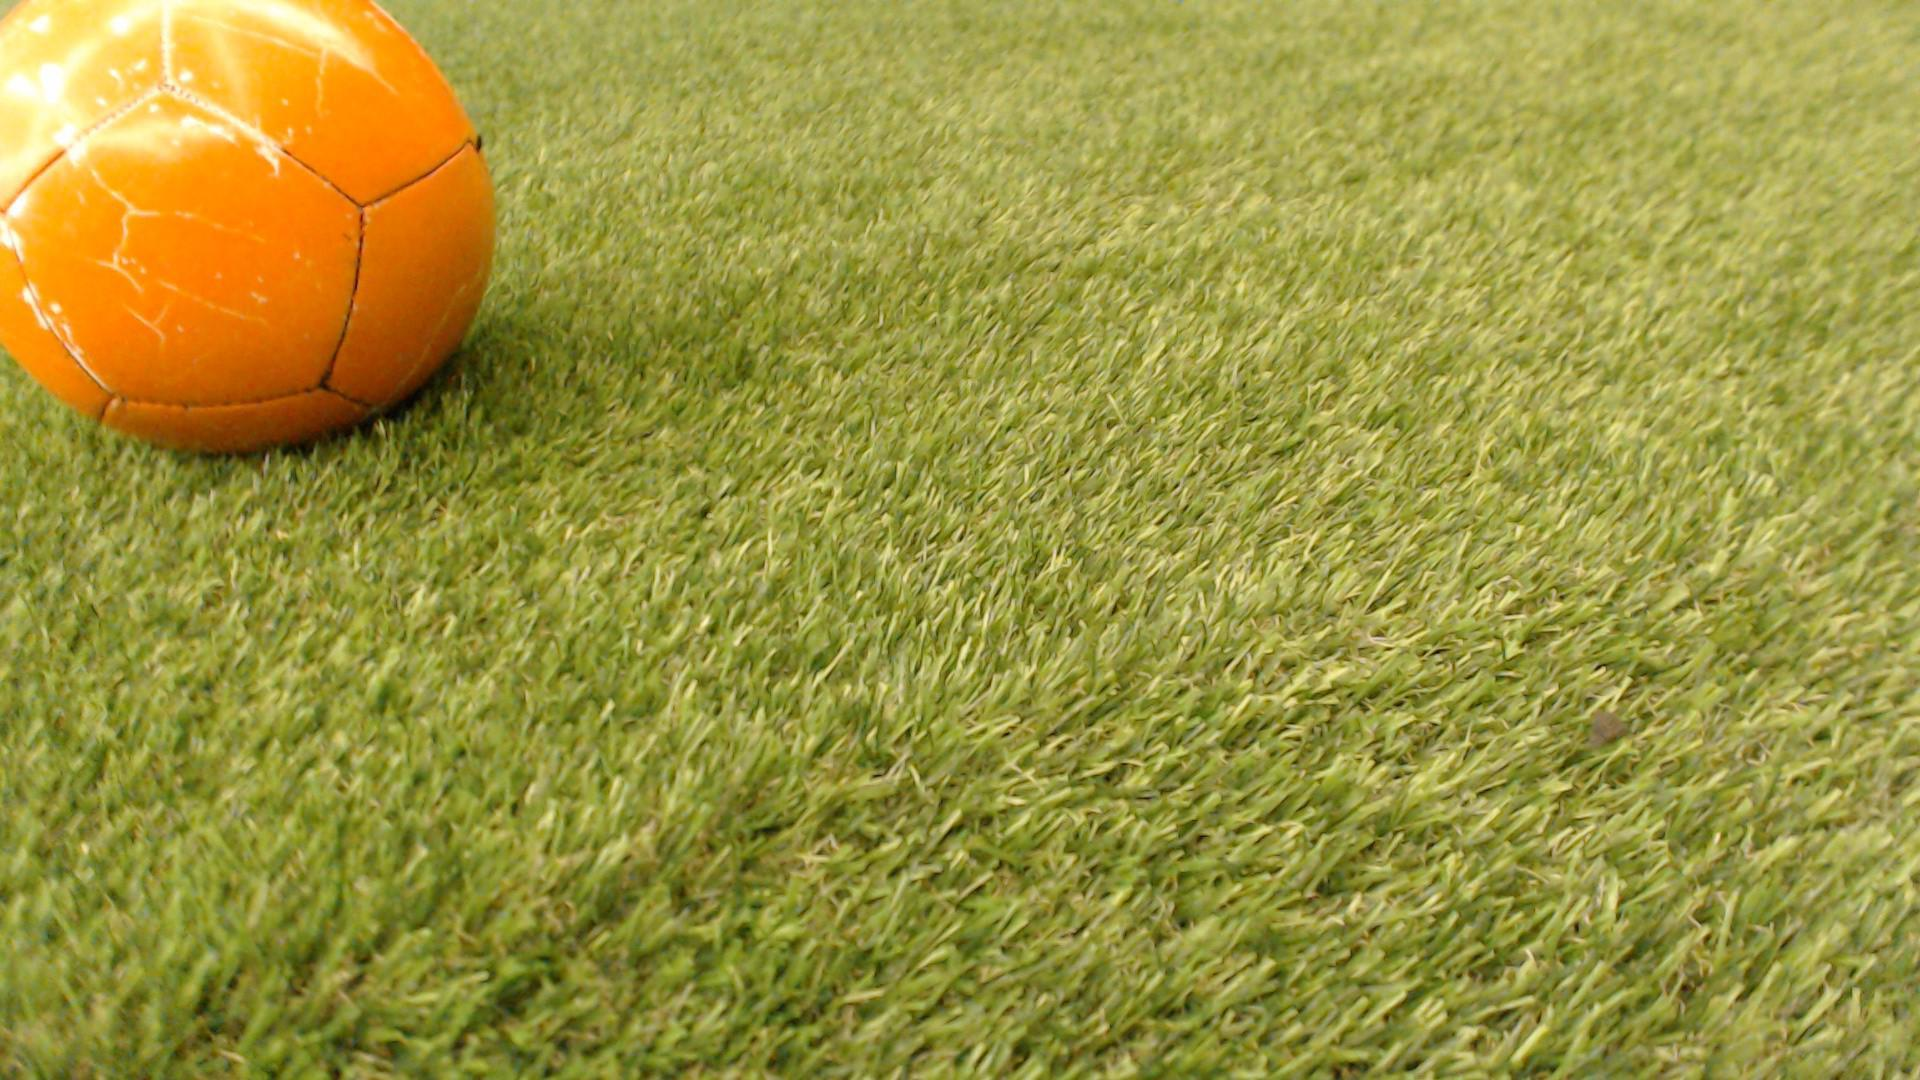bola: (0, 0, 539, 491)
